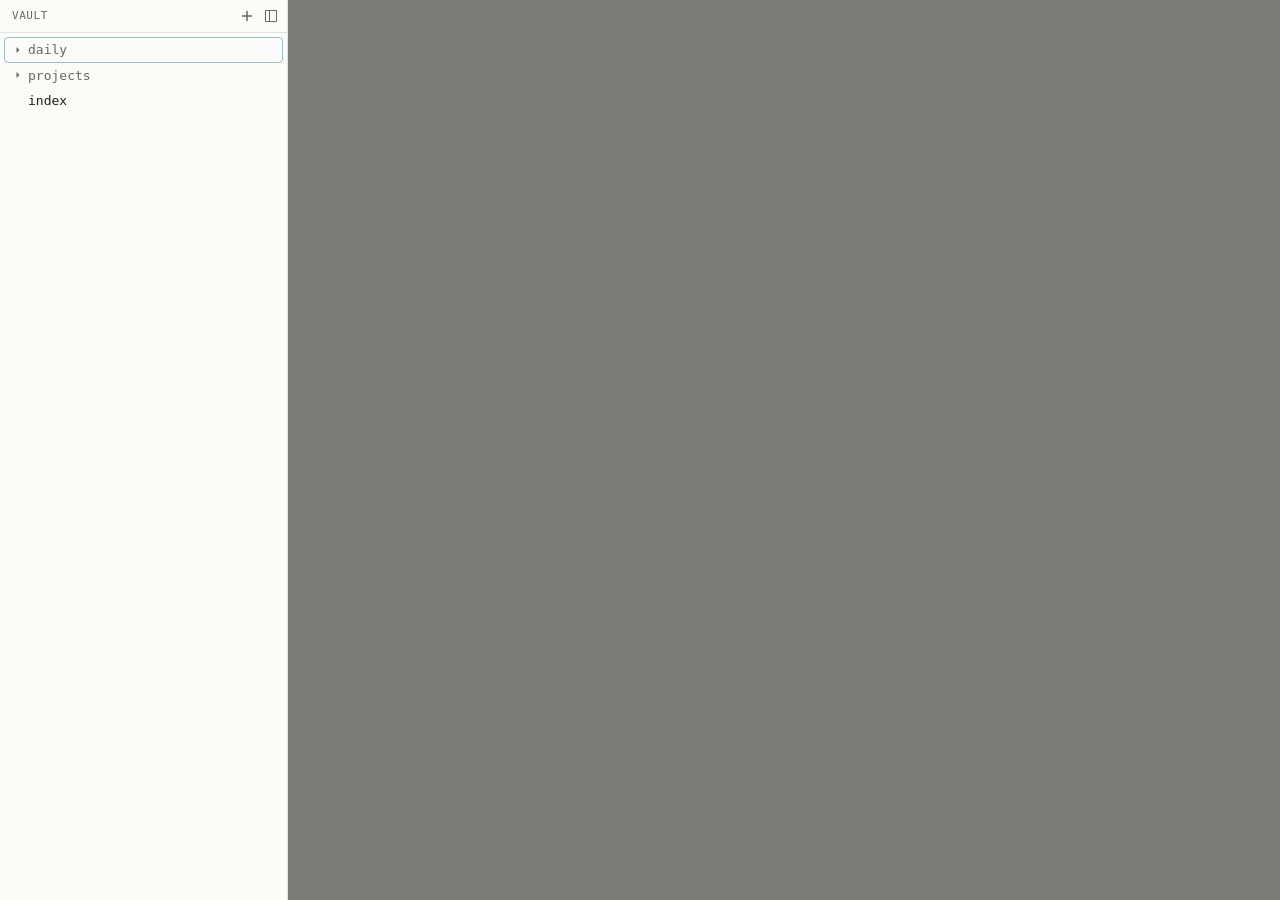
Test: FileExplorer › nests each note under the folders in its path
The width and height of the screenshot is (1280, 900).
Click the button "daily". click: (48, 50)
box: top-left (4, 37), bottom-right (283, 62)
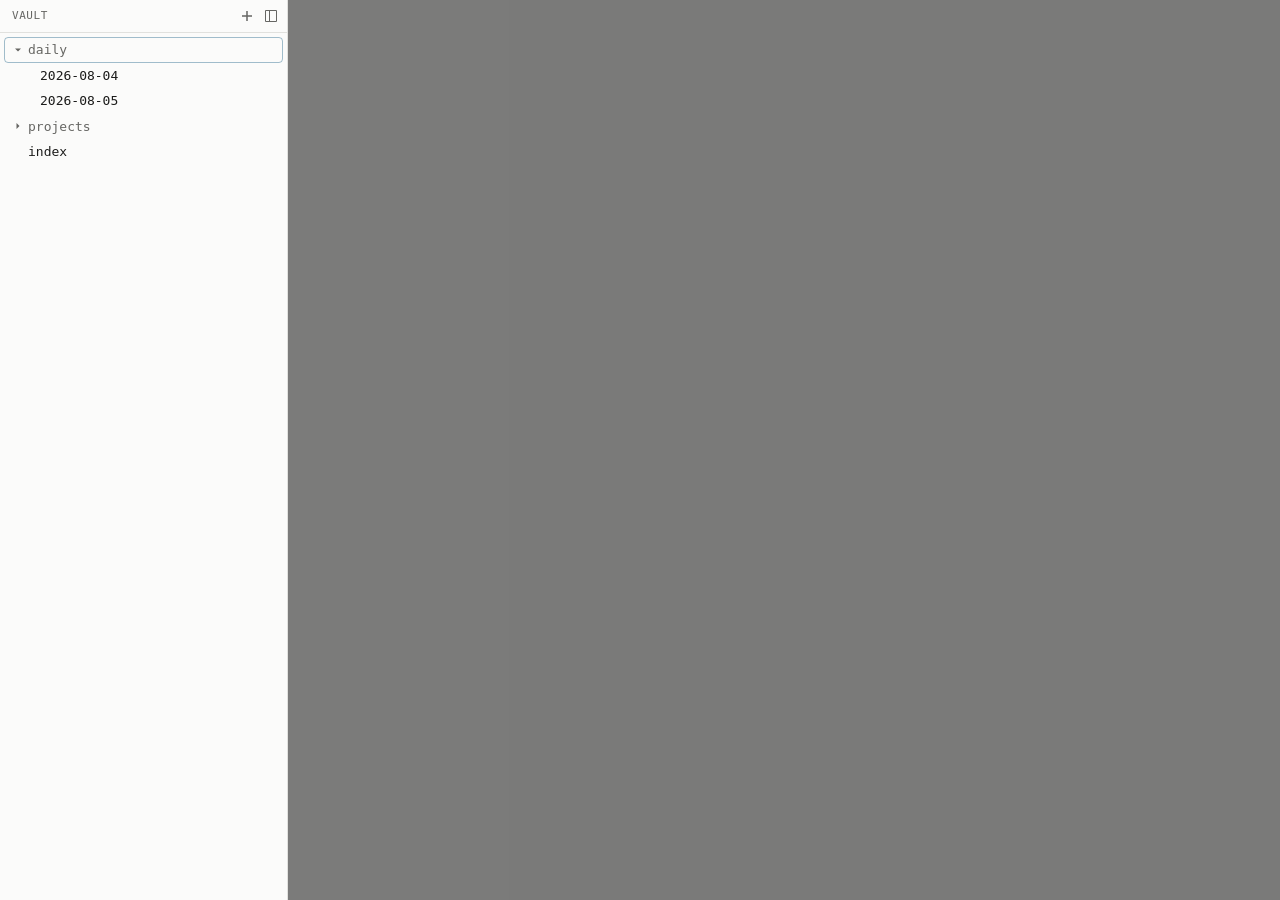
Click the button "projects". click: (59, 126)
box: top-left (4, 114), bottom-right (283, 139)
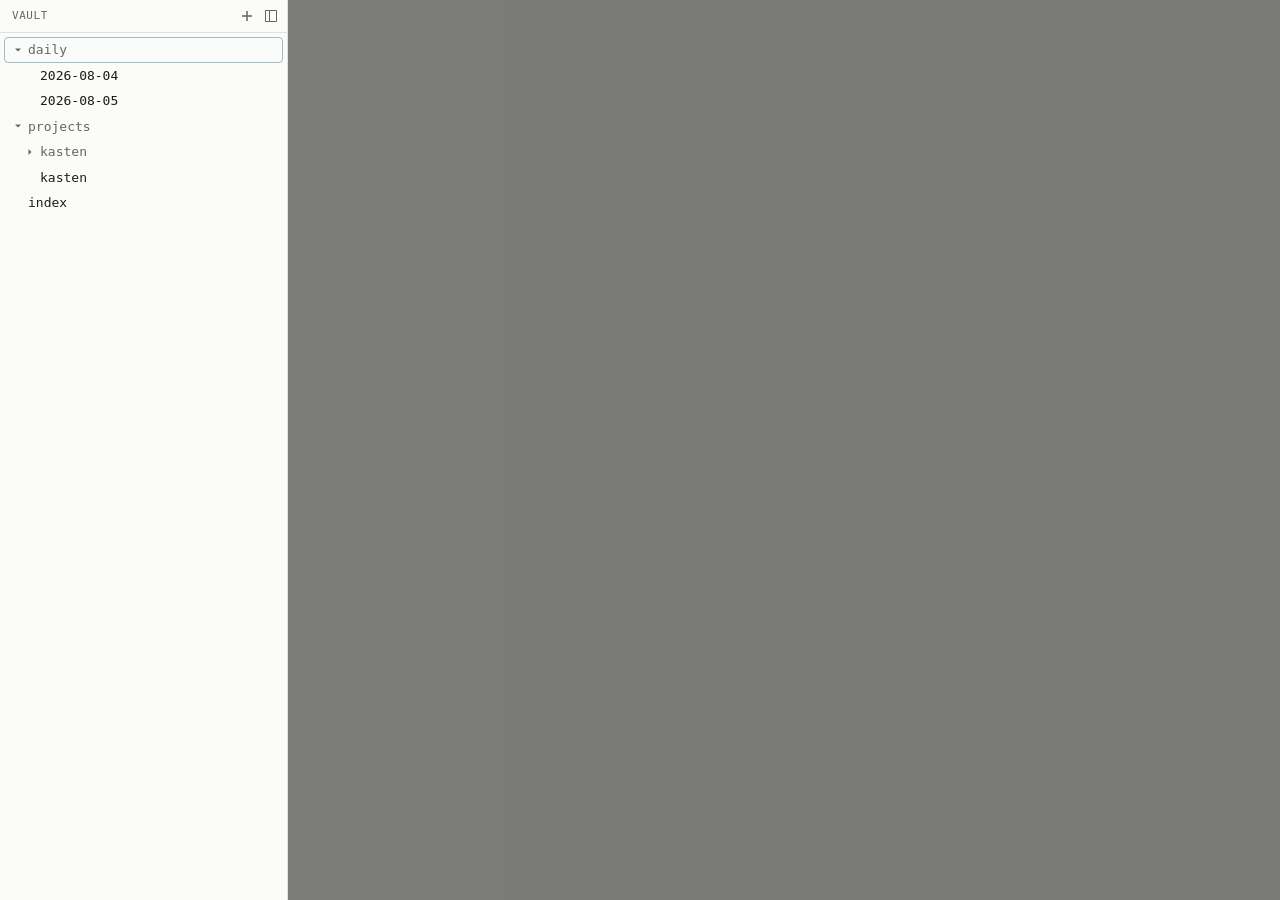
Click the 1st button "kasten". click: (63, 152)
box: top-left (4, 139), bottom-right (283, 164)
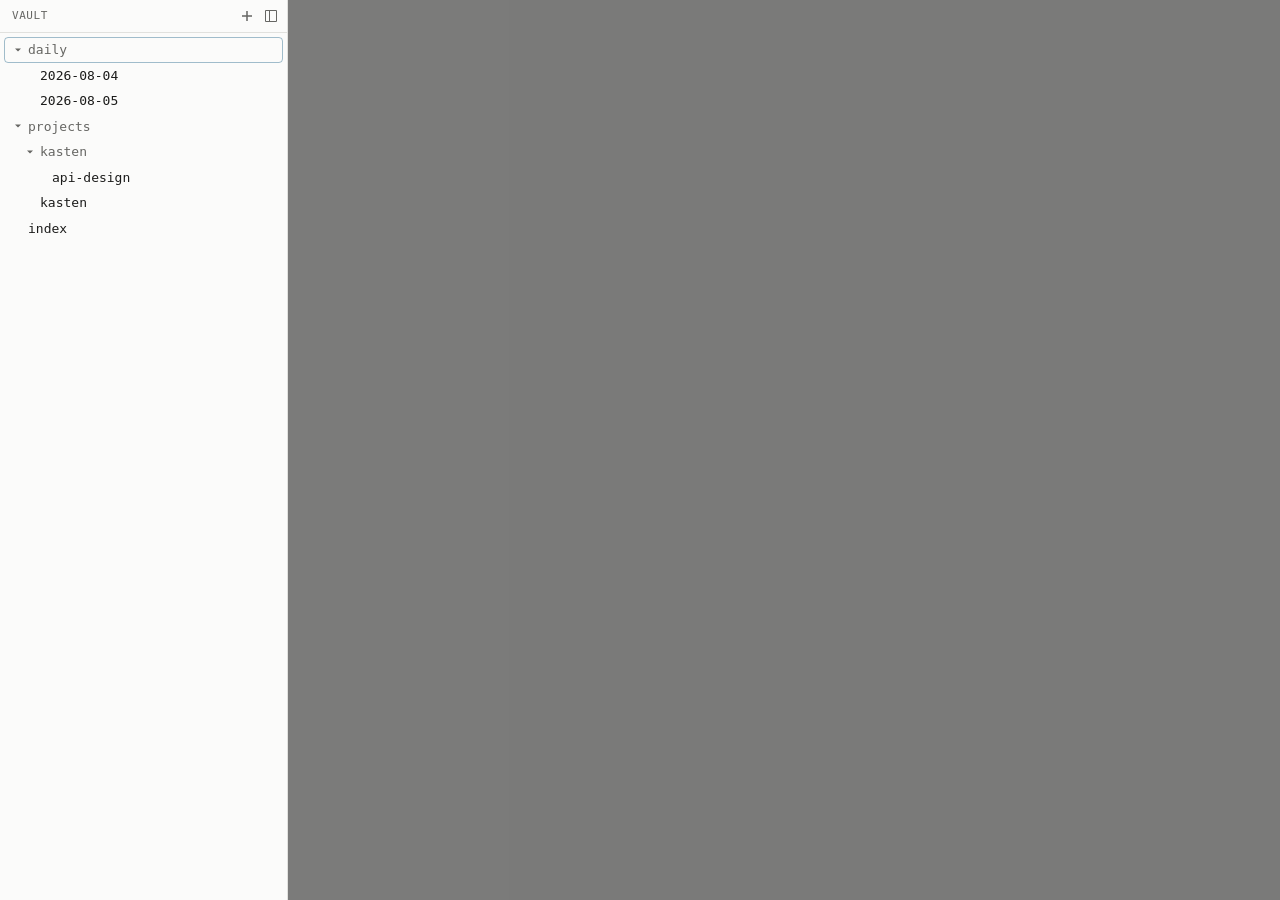
Now the text "2026-08-05" is shown, box top-left (40, 91), bottom-right (118, 110)
Now the text "api-design" is shown, box top-left (52, 168), bottom-right (130, 187)
